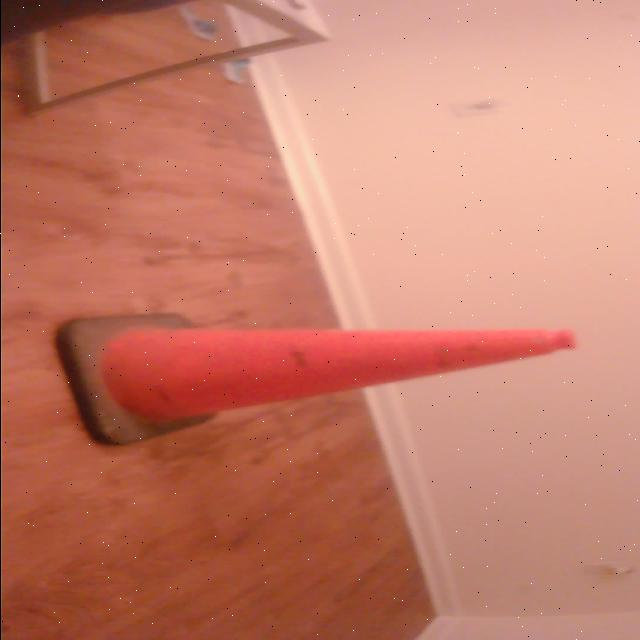traffic cone: (46, 310, 591, 455)
